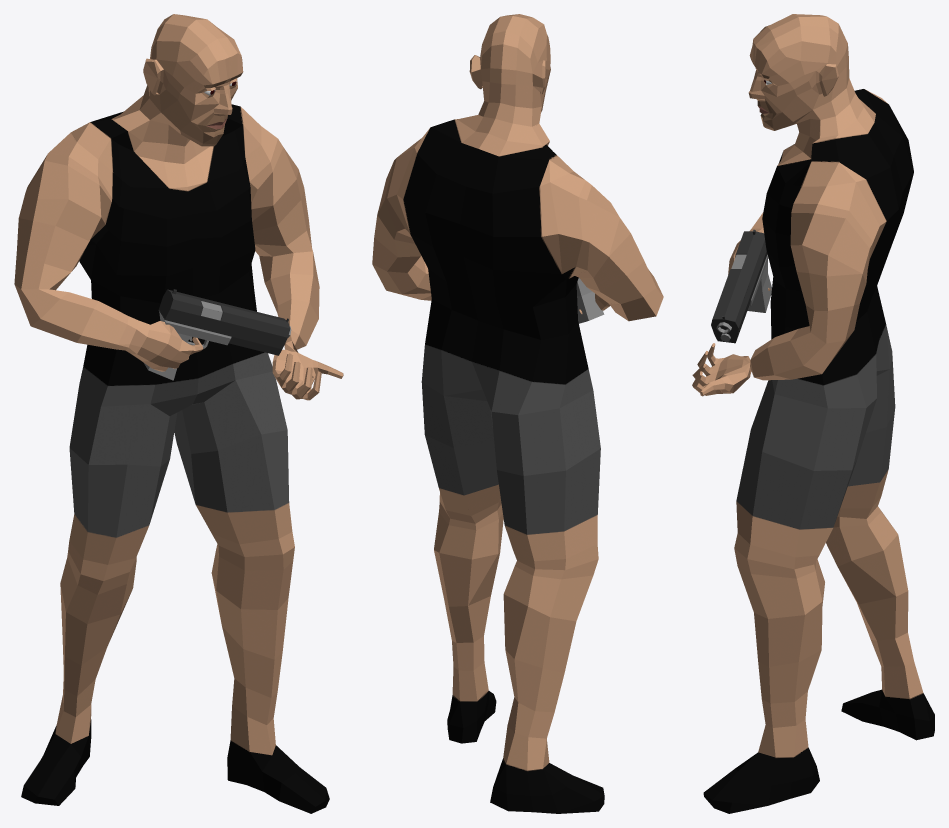
The model's file is PlayerIdle(176).obj.
3 renders of one model, left to right at view 1: azimuth 30°, elevation 25°; view 2: azimuth 150°, elevation 25°; view 3: azimuth 270°, elevation 25°, orthographic. The views are drawn at different scales.
Parts seen in each view (by area): view 1: Plane002, Box003; view 2: Plane002, Box003; view 3: Plane002, Box003.
Boxes of the visible parts, <box> form: Plane002: <box>14,14,343,813</box>; Box003: <box>143,289,291,380</box>; Plane002: <box>372,14,663,813</box>; Box003: <box>576,278,604,323</box>; Plane002: <box>692,14,934,813</box>; Box003: <box>711,229,771,343</box>.
Size of the model in its own units: 713 by 1801 by 528.
